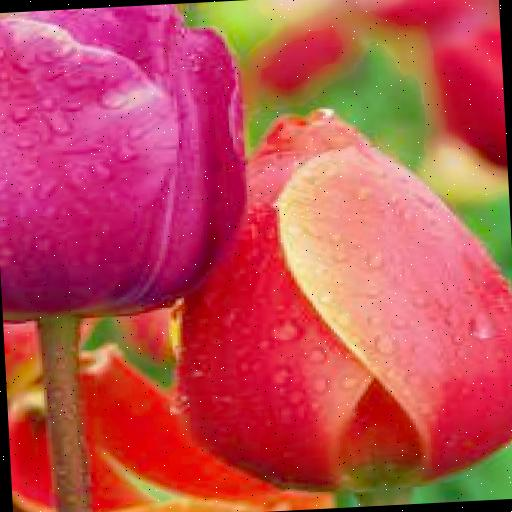tulip: (169, 102, 512, 497)
